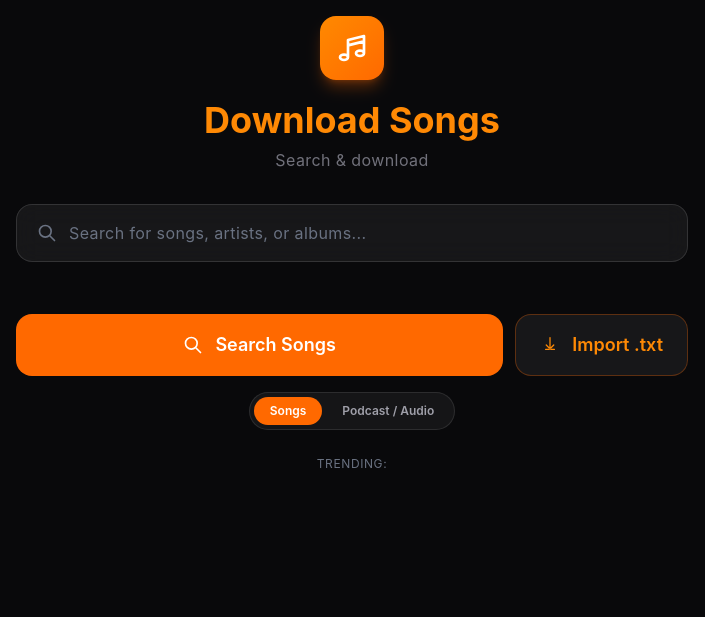
Download search › keeps the latest search when an older request resolves later
The width and height of the screenshot is (705, 617).
Type "Alpha" into the field with placeholder "Search for songs, artists, or albums..." at (378,233), box [69, 205, 687, 261]
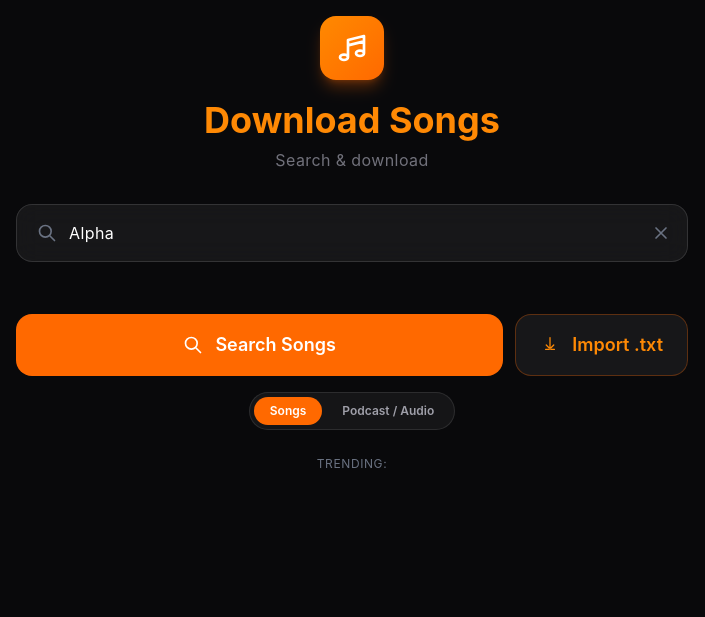
Click the button "Search Songs" at (260,345), box [16, 314, 503, 376]
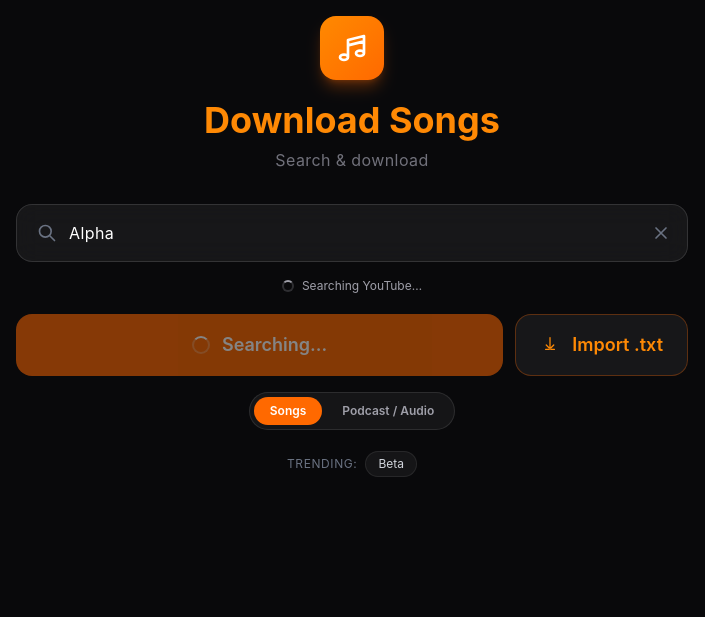
Expected: the text "Searching YouTube…" is shown, [282, 278, 422, 294]
Click the button "Beta" at (391,464), box [365, 451, 417, 477]
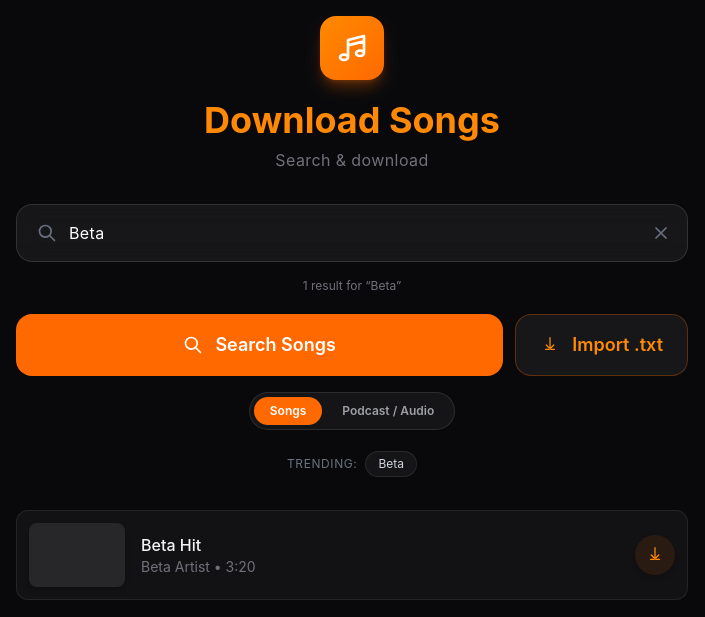
Expected: the heading "Beta Hit" is shown, [141, 535, 201, 555]
Expected: the text "1 result for “Beta”" is shown, [303, 278, 401, 293]
